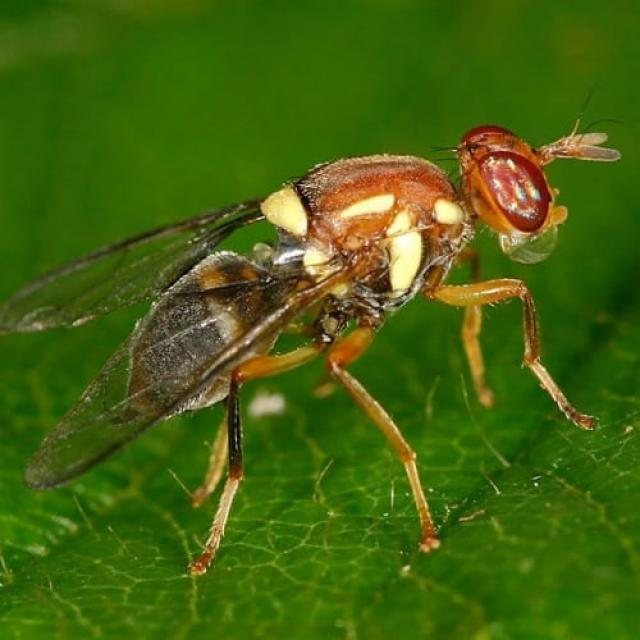Fruit fly: (9, 124, 640, 580)
